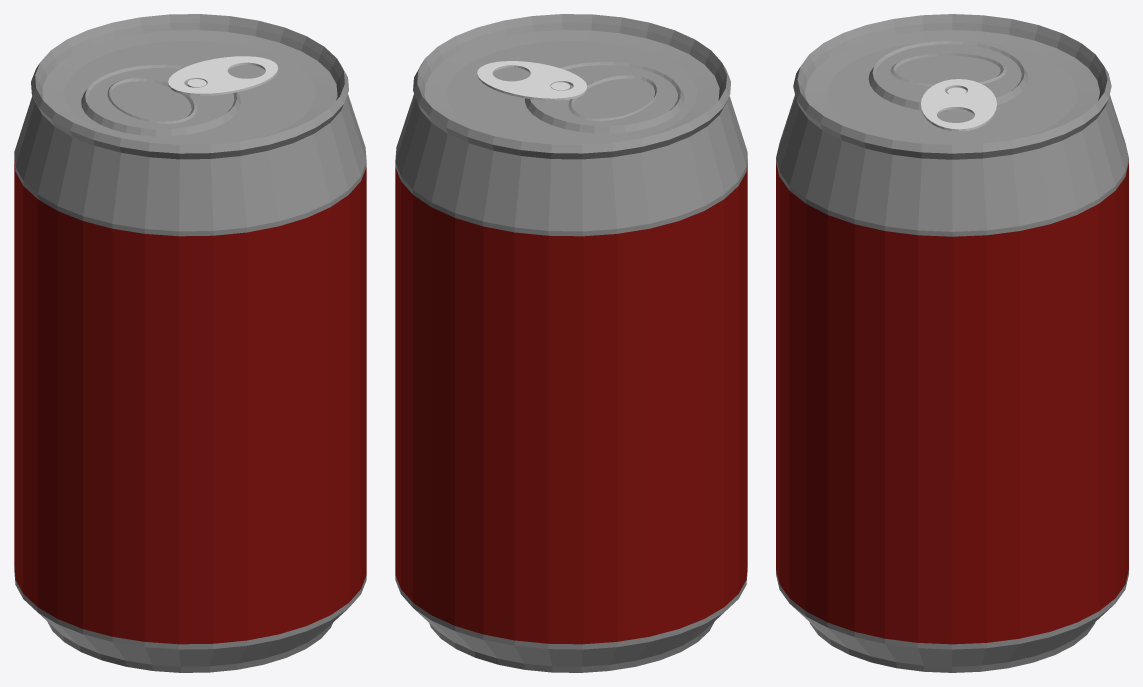
The model's file is Trash_SodaCan.fbx.
3 views of the same model, side by side, from view 1: azimuth 30°, elevation 25°; view 2: azimuth 150°, elevation 25°; view 3: azimuth 270°, elevation 25° (orthographic).
Visible parts, largest first — view 1: Can, tab; view 2: Can, tab; view 3: Can, tab.
Part boxes in pixels (box(x1,y1,x2,y2)): Can: box(14, 14, 366, 672); tab: box(168, 56, 278, 95); Can: box(395, 14, 747, 672); tab: box(477, 61, 587, 100); Can: box(776, 14, 1128, 672); tab: box(921, 79, 996, 131).
Bounding box in the file's own units: 200 × 334 × 200.
